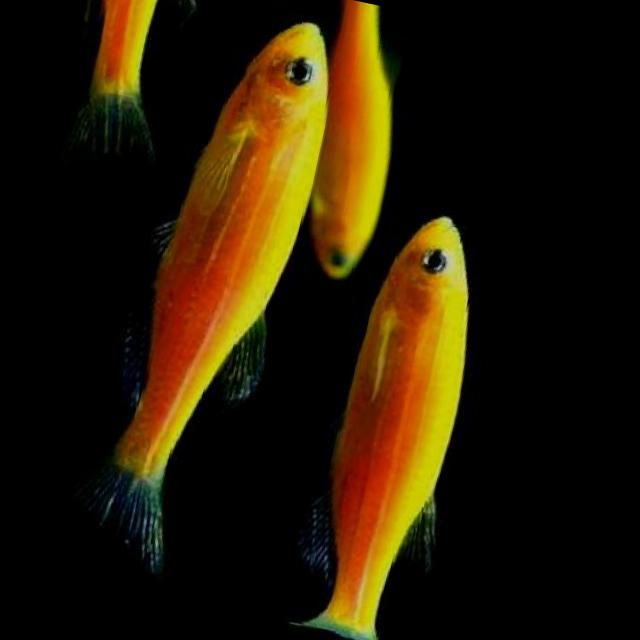ZebraFish: (99, 5, 352, 532), (288, 202, 514, 640)
